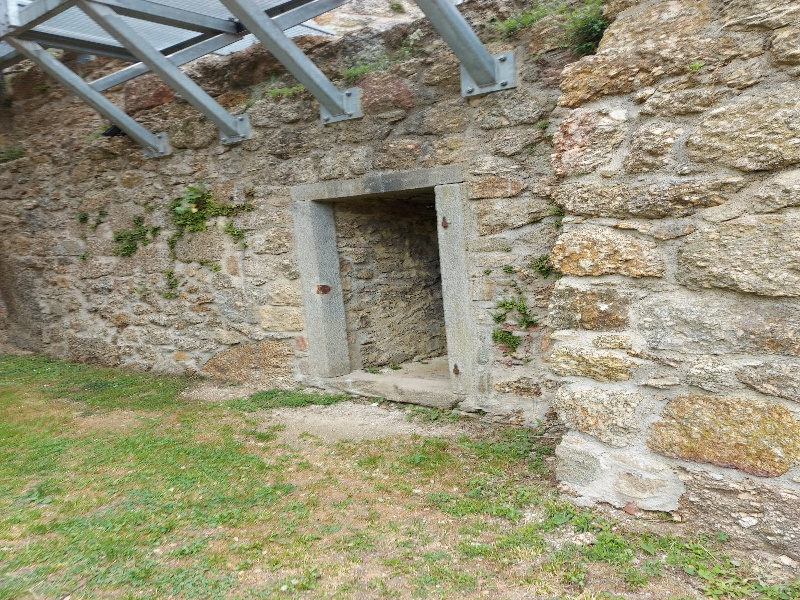door1: (284, 168, 491, 415)
